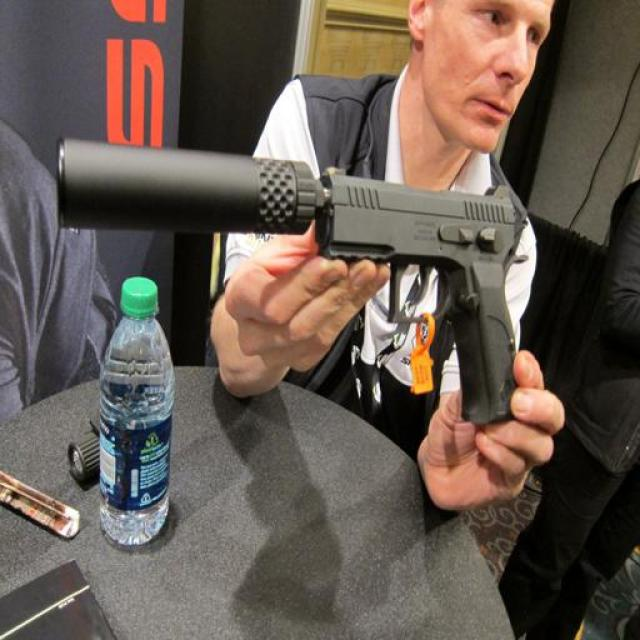pistol: (313, 170, 529, 426)
